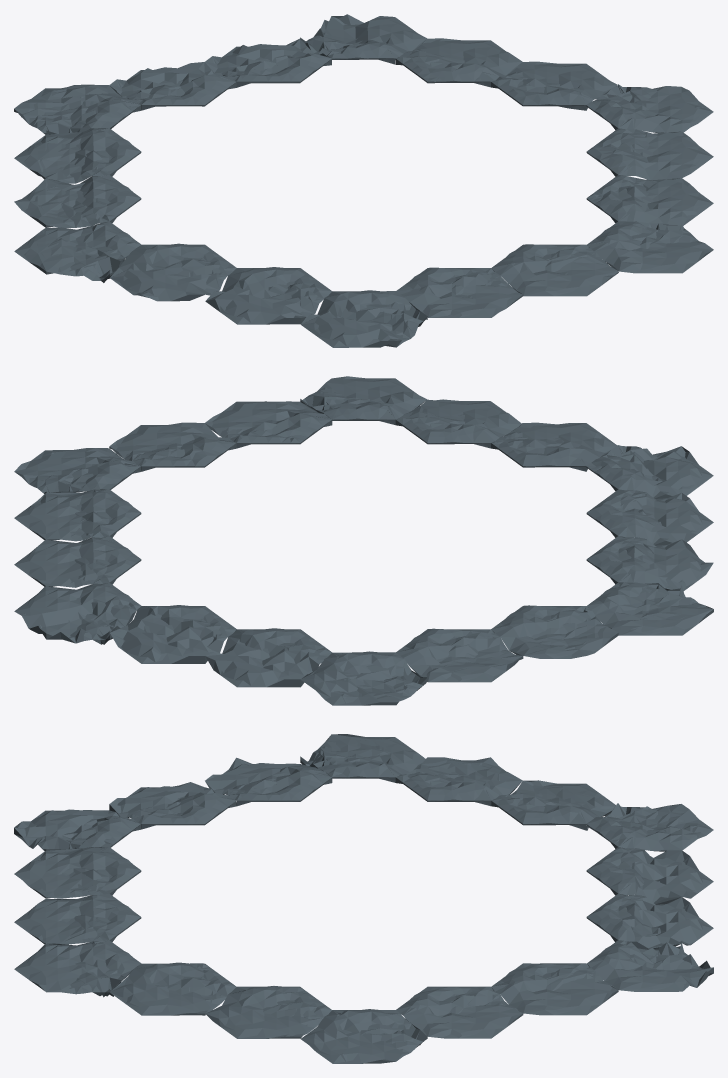
File: bight.fbx
3 renders of one model, top to bottom at view 1: azimuth 30°, elevation 25°; view 2: azimuth 150°, elevation 25°; view 3: azimuth 270°, elevation 25°, orthographic.
Visible parts, largest first — view 1: Cylinder.234; view 2: Cylinder.234; view 3: Cylinder.234.
Part boxes in pixels (<box>): Cylinder.234: <box>14,14,713,347</box>; Cylinder.234: <box>14,376,713,705</box>; Cylinder.234: <box>14,734,713,1063</box>.
Size of the model in its own units: 1214 by 45.68 by 1101.
